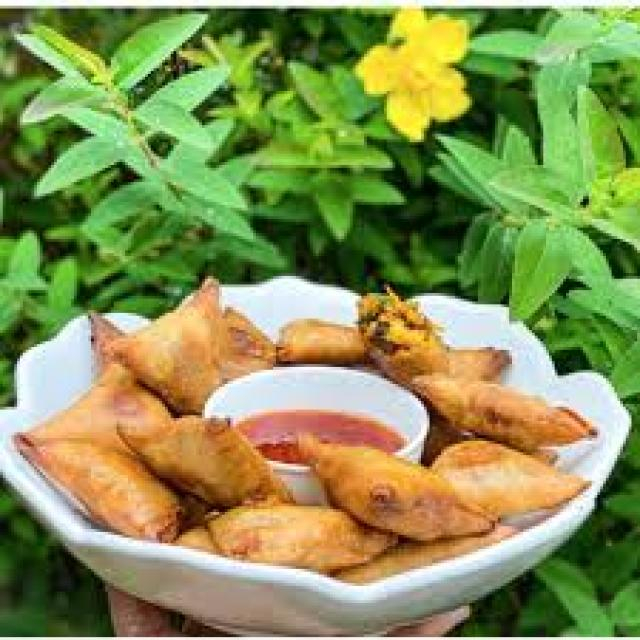SAMOSA: (24, 280, 600, 592)
